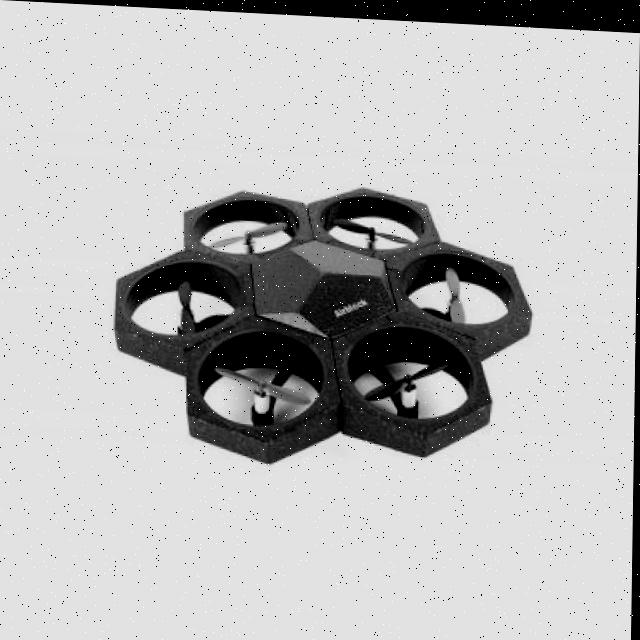drone: (105, 182, 558, 459)
